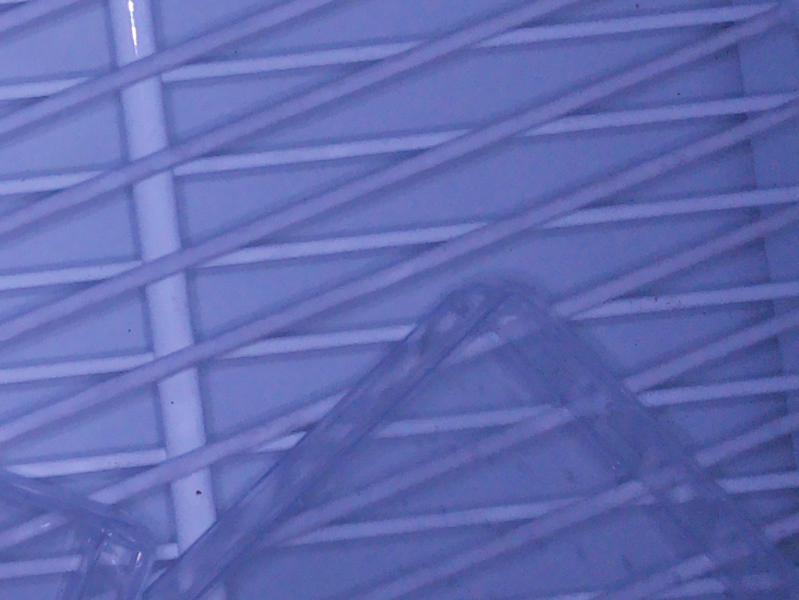plate: (139, 279, 799, 600), (1, 469, 153, 600)
